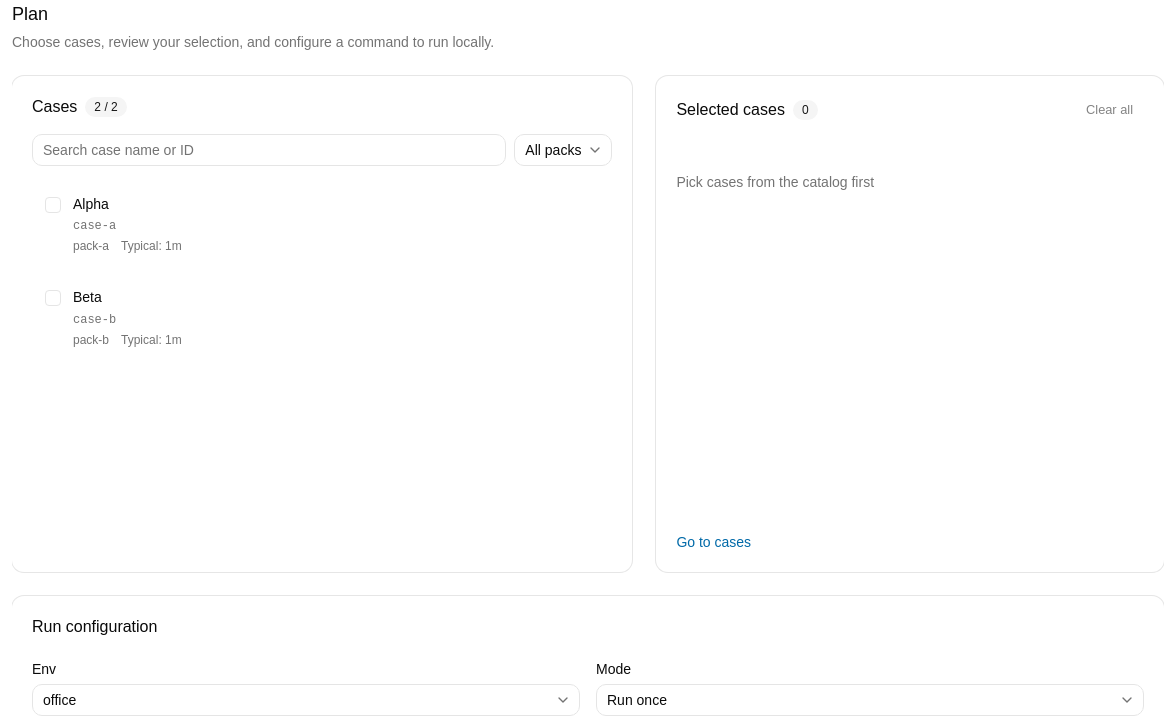
Test: surfaces clipboard errors
The width and height of the screenshot is (1164, 720).
Step 1. Click the checkbox named "case-a" next to "Alpha" → coordinates (53, 205), box [45,197,61,213]
(page scrolled)
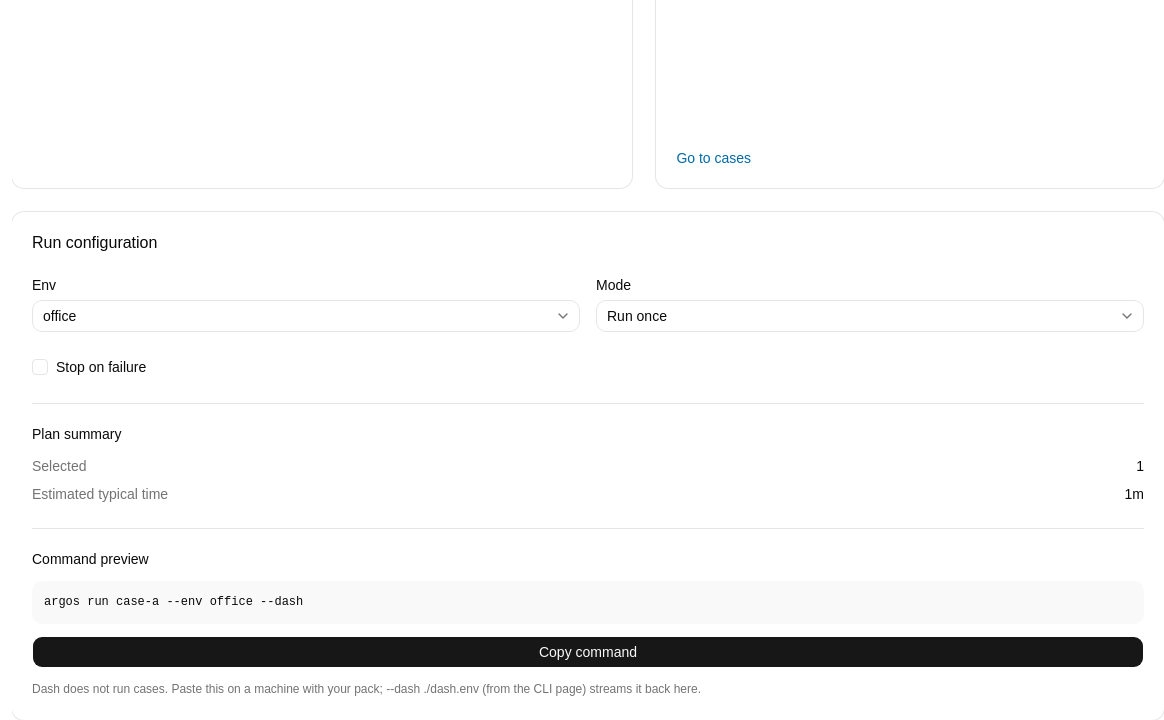
Step 2. Click the button "Copy command" → coordinates (588, 652), box [32,636,1144,668]
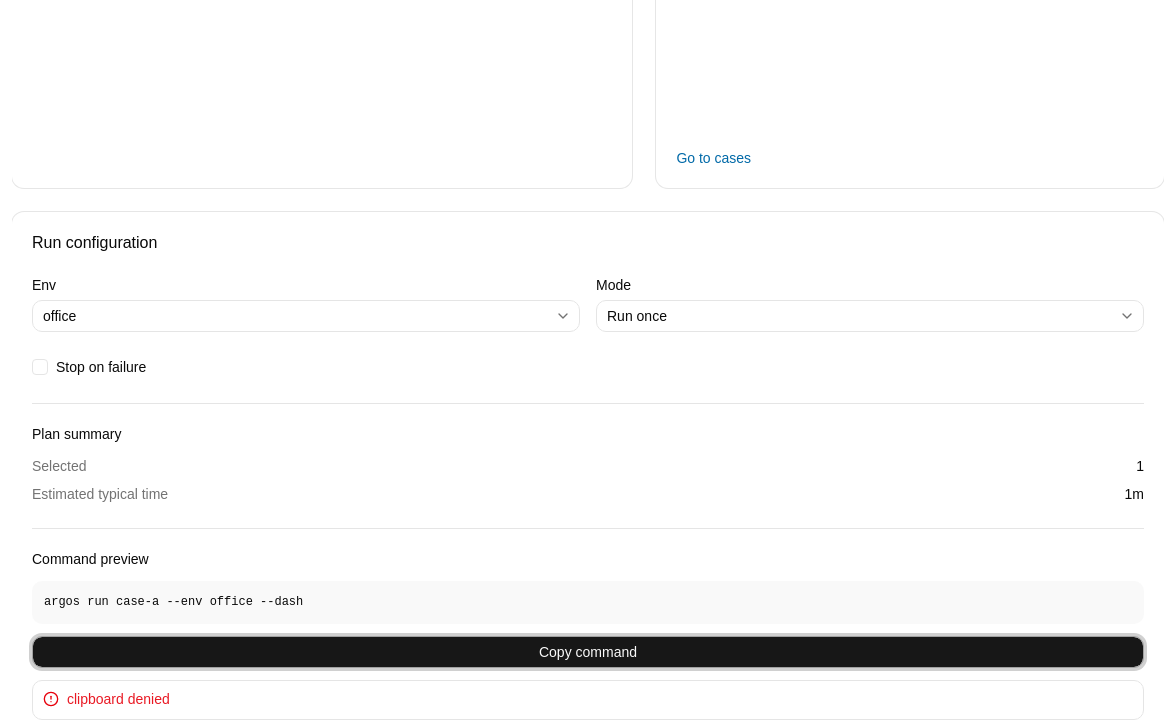
Expected: the message reads "clipboard denied", [67,691,170,707]
